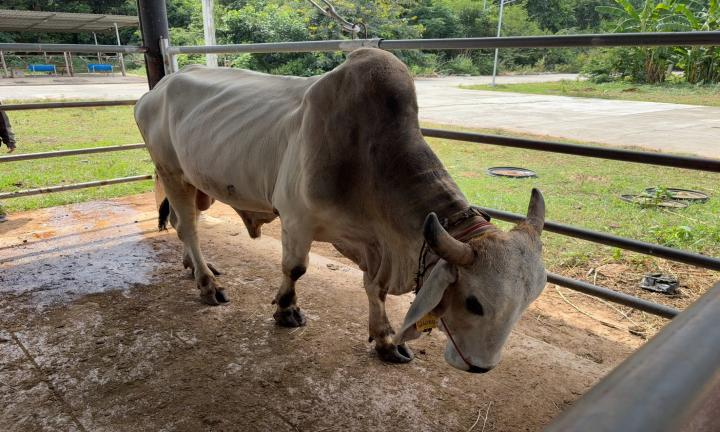Brahman: (135, 48, 545, 372)
